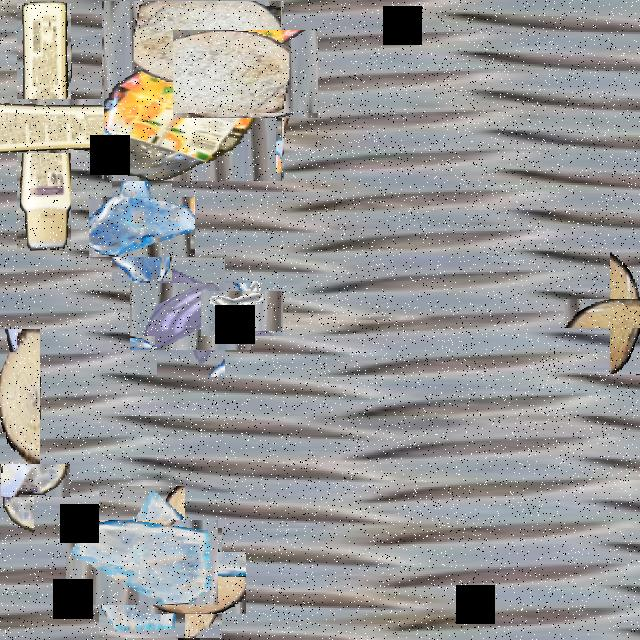glass: (82, 502, 202, 622), (144, 269, 238, 364), (100, 186, 184, 269)
metal: (210, 281, 274, 345)
plastic: (103, 1, 283, 180), (0, 50, 119, 201), (0, 444, 52, 515)
wood: (186, 16, 304, 133), (148, 540, 234, 626), (0, 329, 40, 464), (587, 275, 640, 350)
